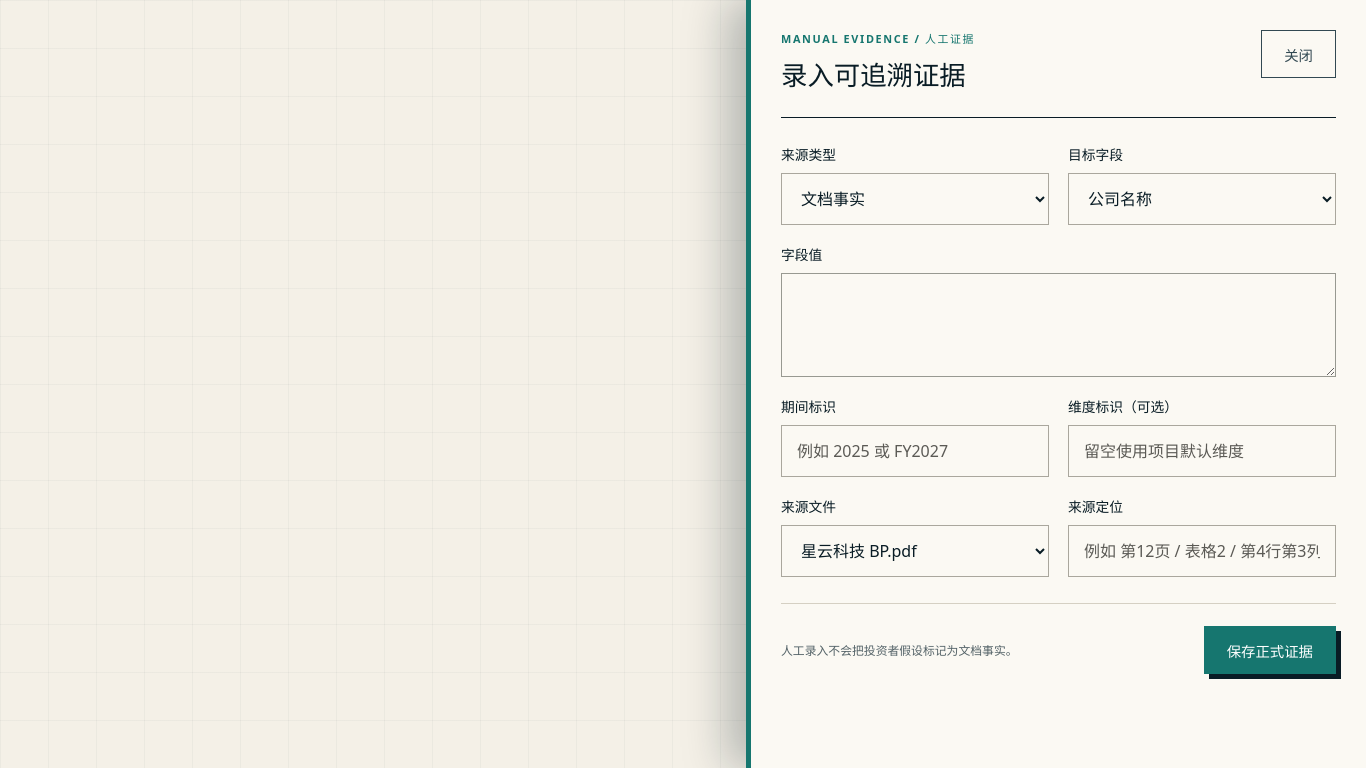
ManualEvidenceForm › requires a locator for document facts
Select "公司名称" in the dropdown labelled "目标字段" at (1202, 199), box [1068,173,1336,225]
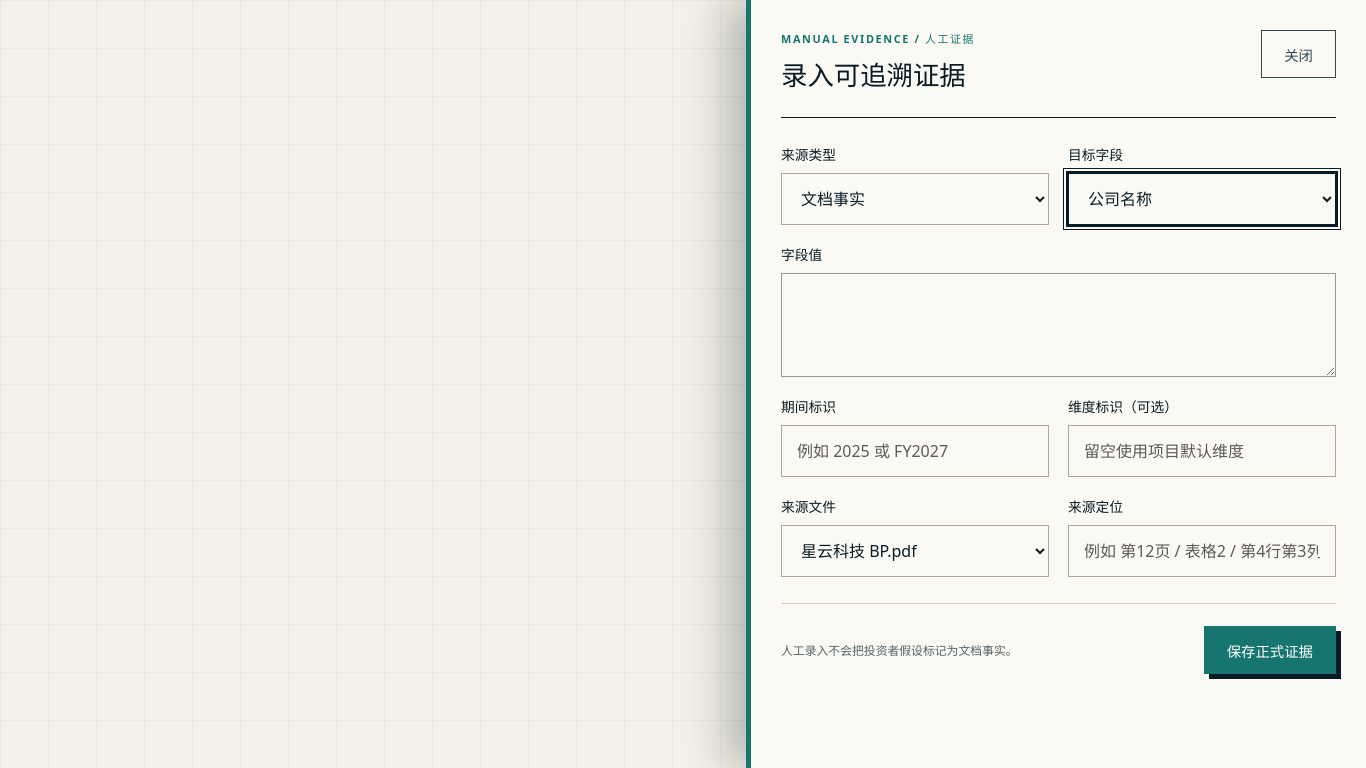
Type "星云科技" into the text box labelled "字段值" at (1058, 325), box [781,273,1336,377]
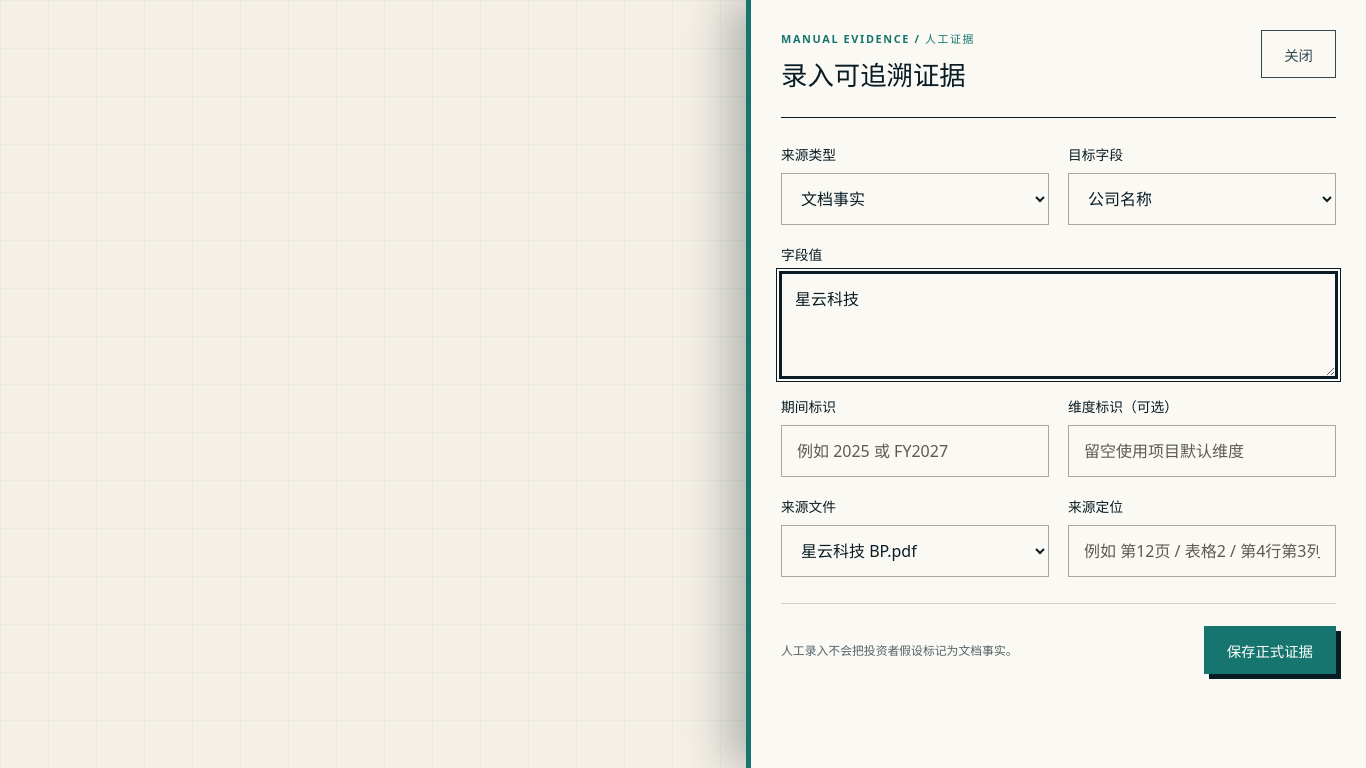
Click the button "保存正式证据" at (1270, 650), box [1204,626,1336,674]
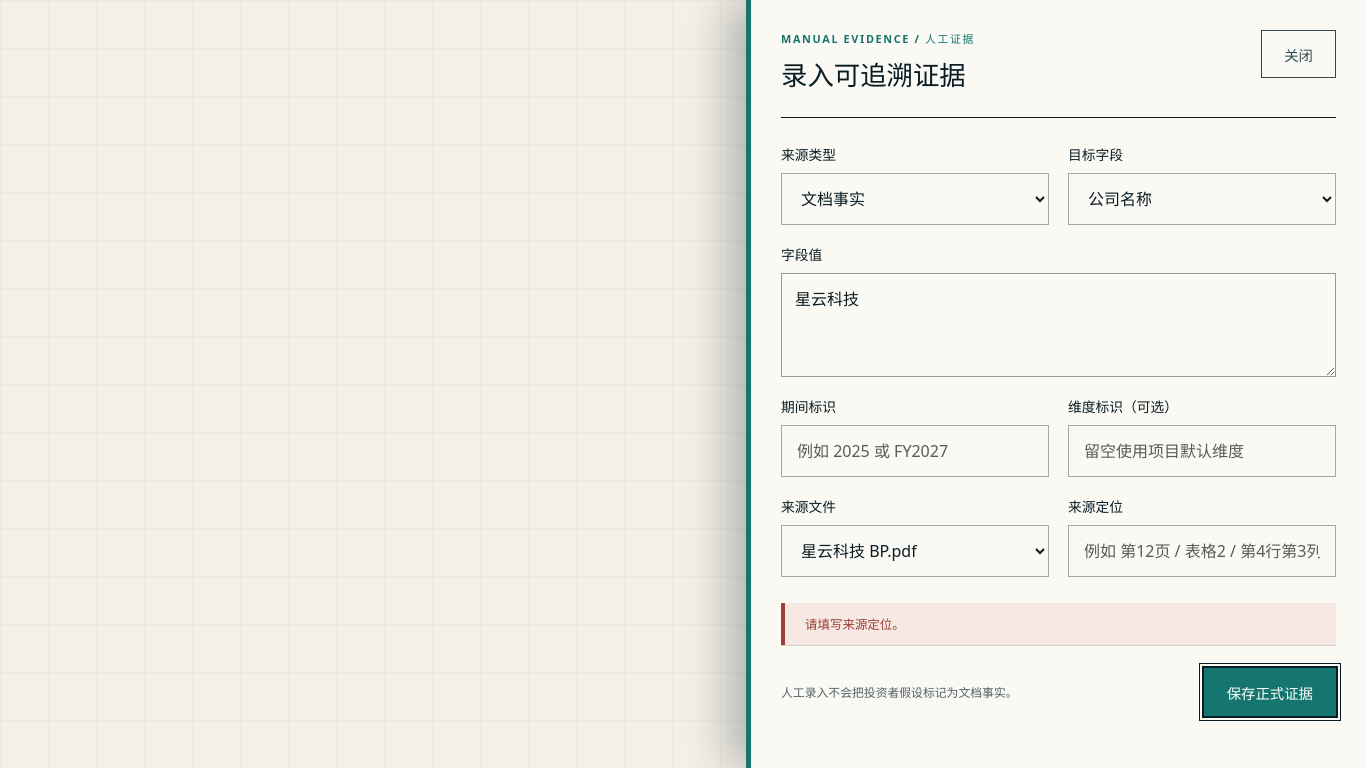
Check: the message shows "请填写来源定位", box [805,616,905,633]
